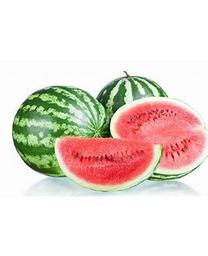watermelon: (12, 82, 110, 179), (109, 96, 207, 178), (54, 136, 162, 191)
